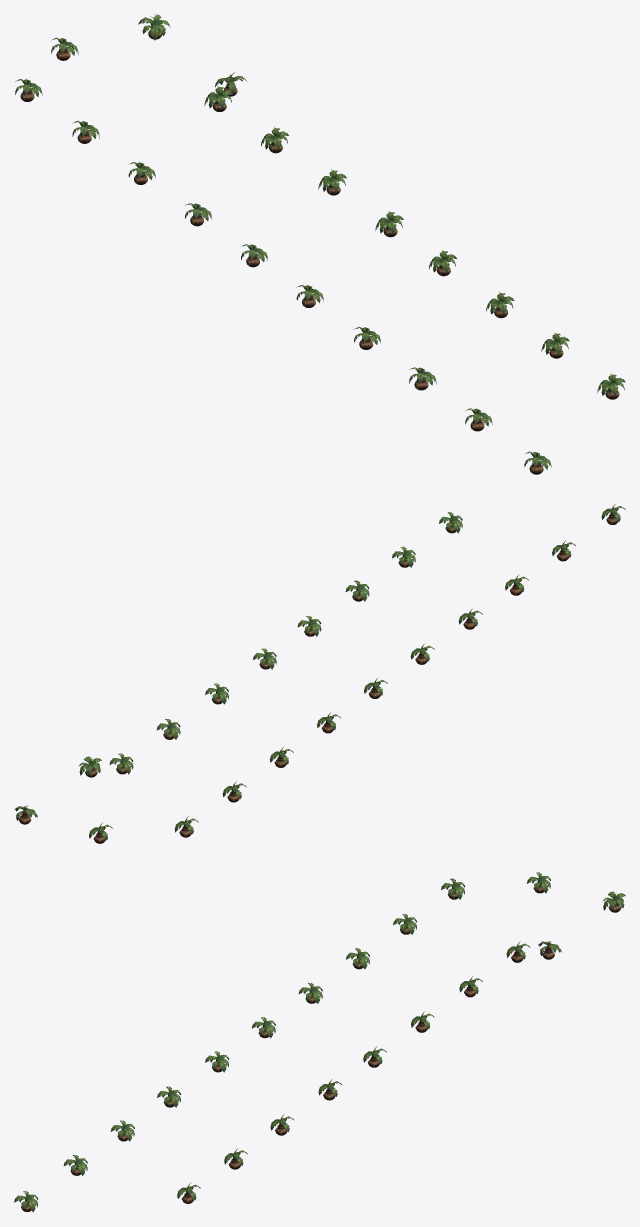
File: wujian09.fbx
3 renders of one model, top to bottom at view 1: azimuth 30°, elevation 25°; view 2: azimuth 150°, elevation 25°; view 3: azimuth 330°, elevation 25°, orthographic. The views are drawn at different scales.
Parts seen in each view (by area): view 1: wujian09; view 2: wujian09; view 3: wujian09.
Part boxes in pixels (x1=…): wujian09: x1=15, y1=14, x2=625, y2=474; wujian09: x1=14, y1=504, x2=625, y2=843; wujian09: x1=14, y1=872, x2=625, y2=1212.
Bounding box in the file's own units: 1737 × 204 × 9167.
